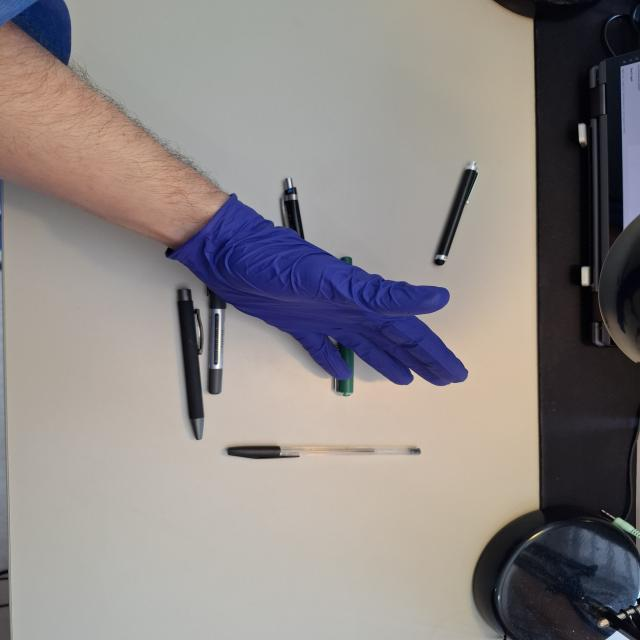glove_on: (164, 186, 471, 388)
